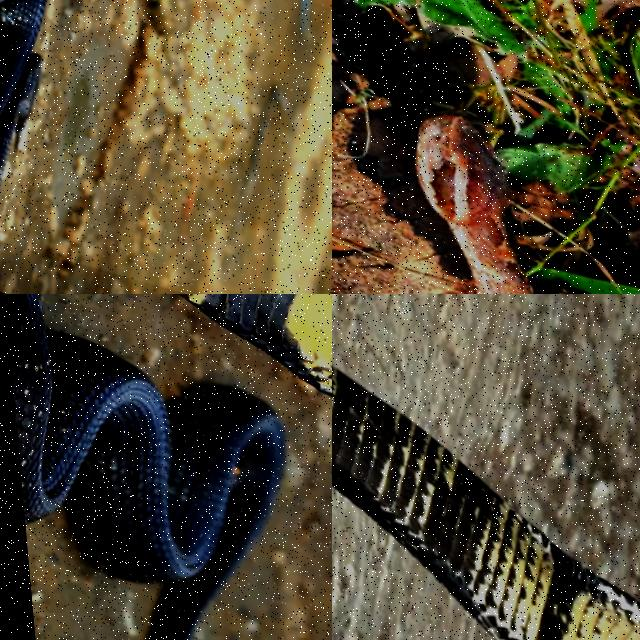Calloselasma rhodostoma: (415, 113, 533, 293)
Ophiophagus hannah: (13, 294, 284, 639), (332, 366, 639, 639), (0, 0, 44, 176)
snake: (13, 294, 284, 639), (332, 366, 639, 639), (415, 113, 533, 293), (0, 0, 44, 176)
